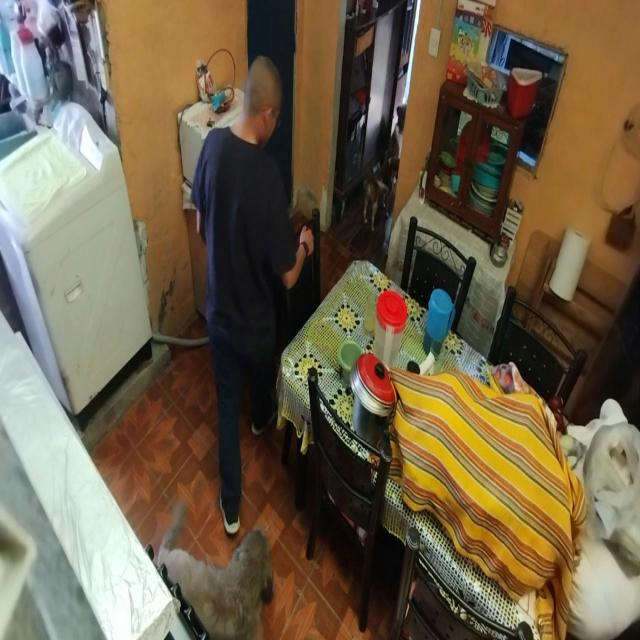adult: (190, 53, 319, 544)
